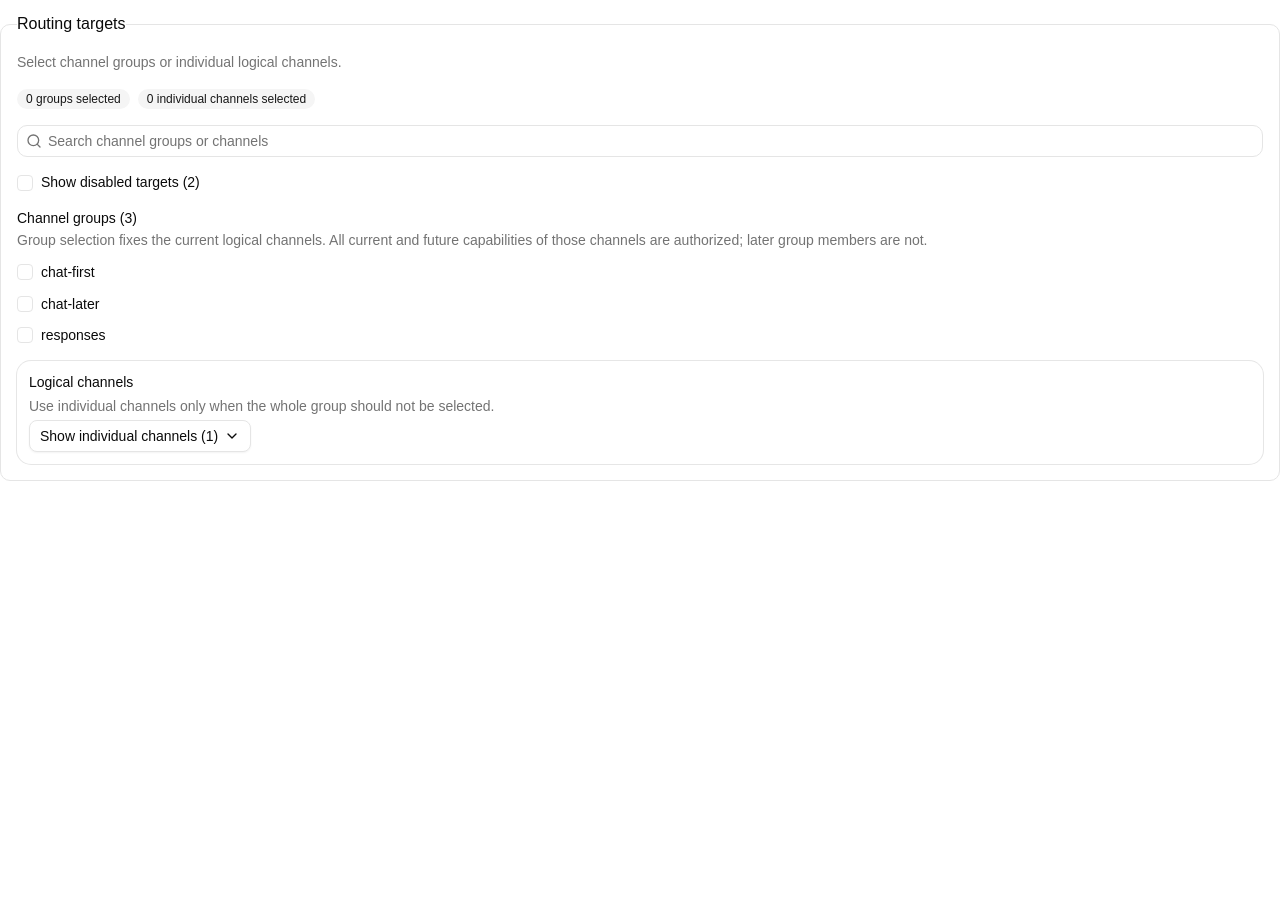
Test case: RoutingTargetFields › allows administrators to select unavailable or model-incompatible targets
Click the checkbox named "Show disabled targets (2)". click: (25, 183)
box: x1=17 y1=175 x2=33 y2=191
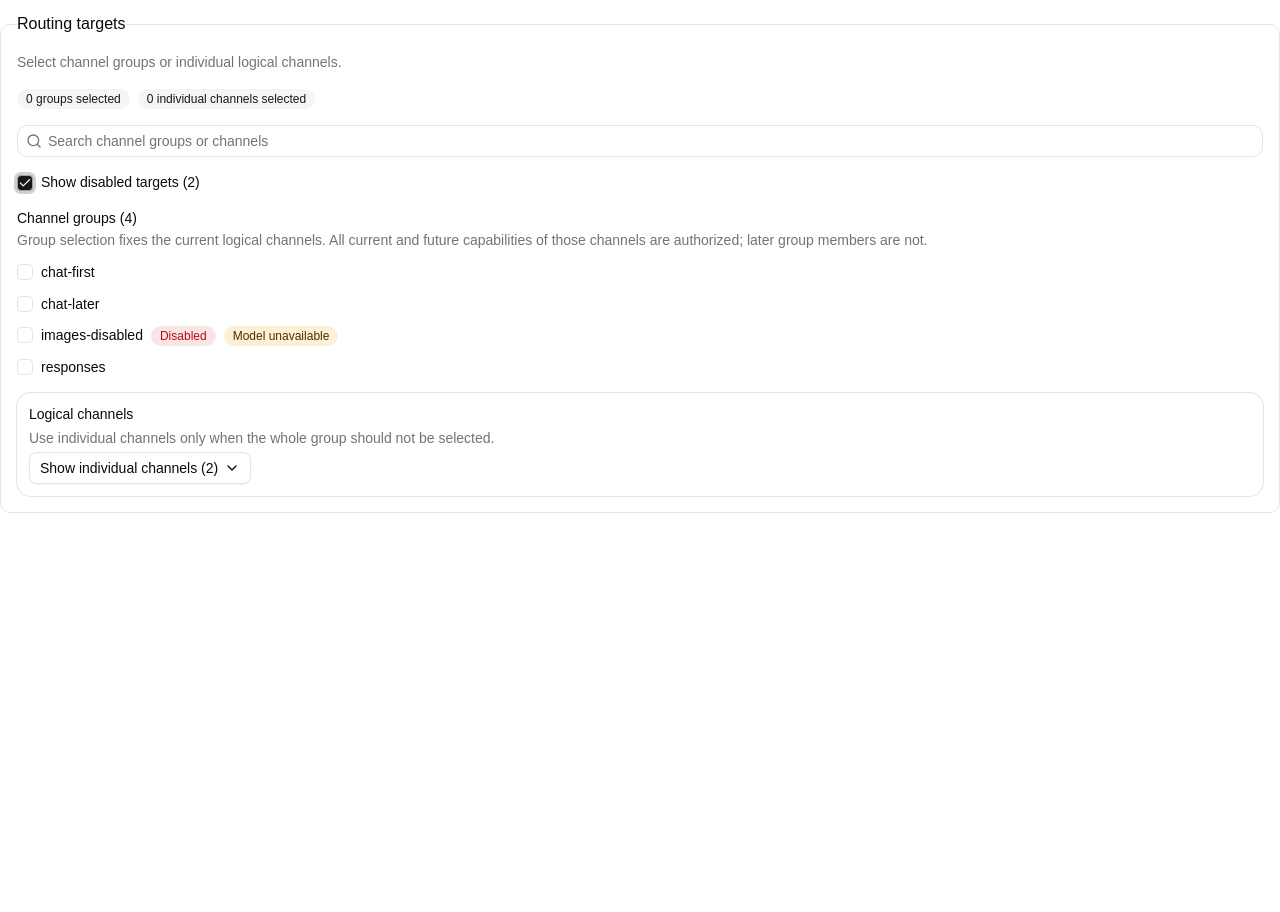
Click the checkbox named "images-disabled". click: (25, 335)
box: x1=17 y1=327 x2=33 y2=343
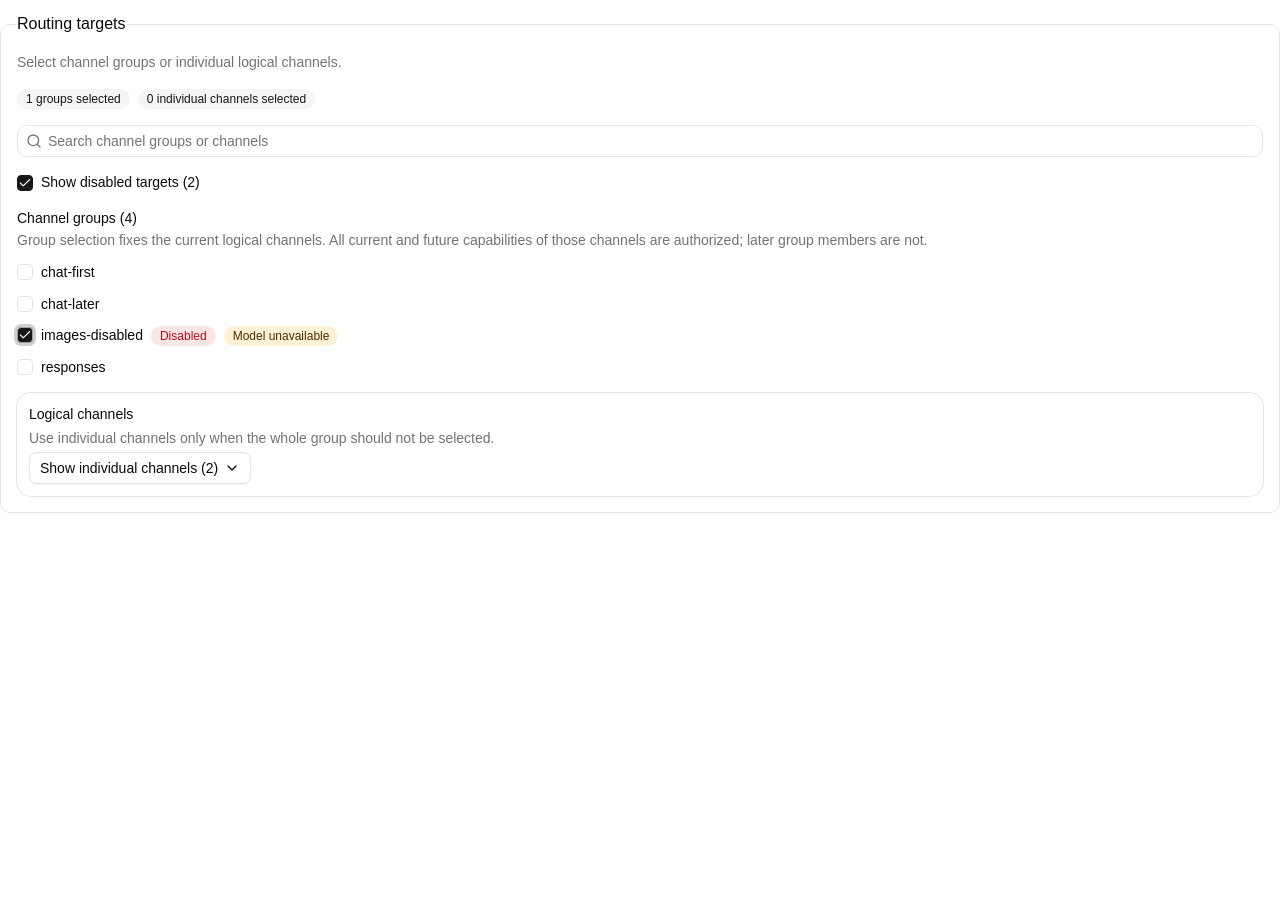
Now the text "1 groups selected" is shown, box x1=17 y1=89 x2=130 y2=109
Click the button "Show individual channels (2)". click: (140, 468)
box: x1=29 y1=452 x2=251 y2=484
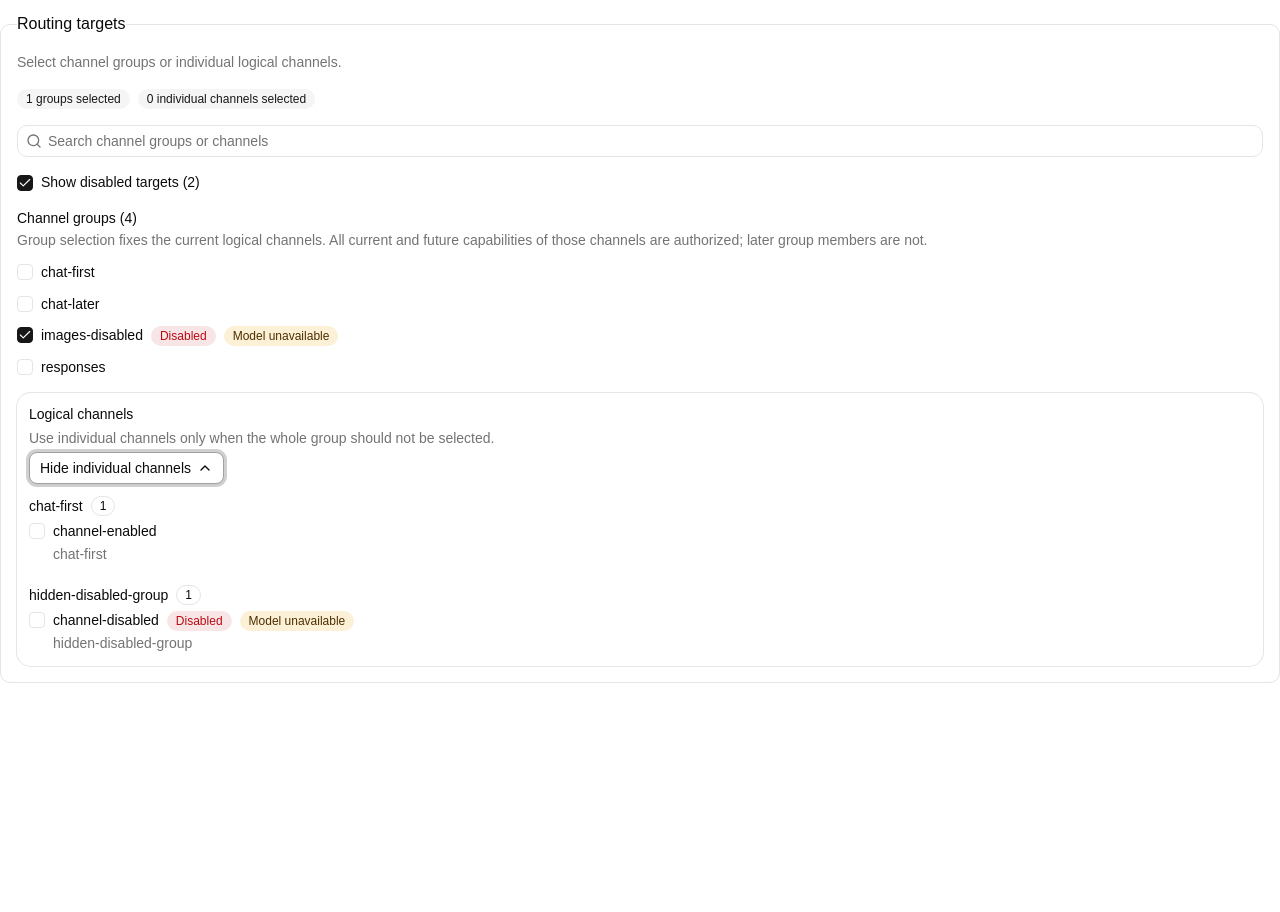
Now the checkbox named "channel-disabled (hidden-disabled-group)" is enabled, box x1=29 y1=612 x2=45 y2=628
Now the text "Model unavailable" is shown 2 times, box x1=224 y1=326 x2=338 y2=346; x1=240 y1=610 x2=354 y2=630
